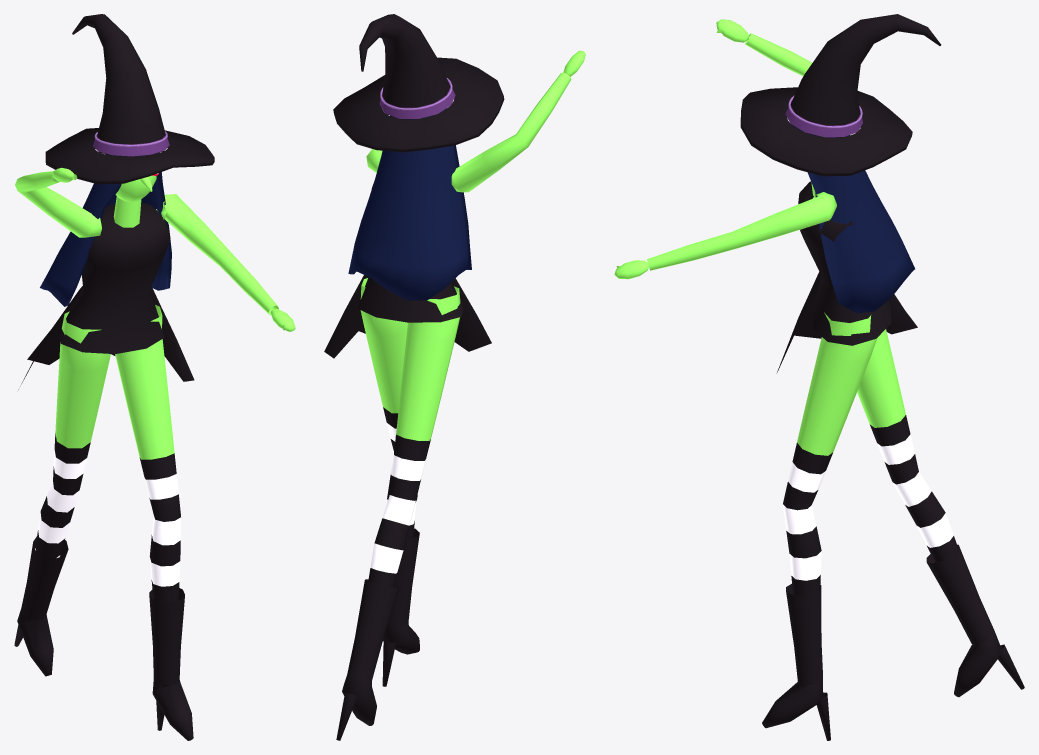
File: witch_cast.glb
3 renders of one model, left to right at view 1: azimuth 30°, elevation 25°; view 2: azimuth 150°, elevation 25°; view 3: azimuth 270°, elevation 25°, orthographic. The views are drawn at different scales.
Parts seen in each view (by area): view 1: HWG_Witch_cast; view 2: HWG_Witch_cast; view 3: HWG_Witch_cast.
Boxes of the visible parts, box(x1,y1,x2,y2) form: HWG_Witch_cast: box(14, 14, 295, 740); HWG_Witch_cast: box(324, 14, 585, 740); HWG_Witch_cast: box(614, 14, 1024, 740).
Bounding box in the file's own units: 0.3952 × 1.36 × 0.7097.
